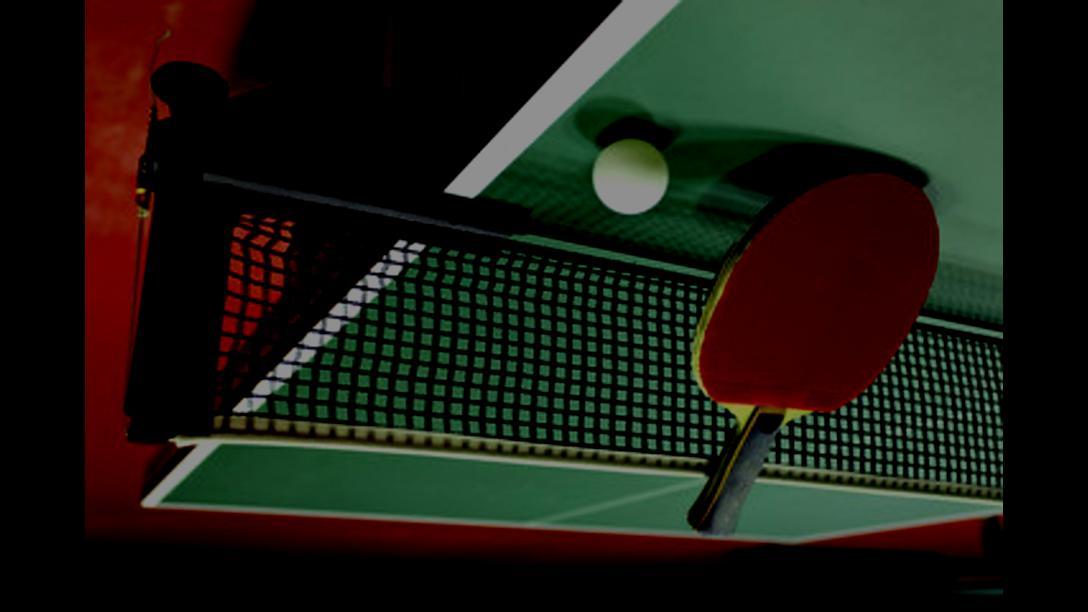Table-Tennis-Ball: (596, 138, 666, 216)
